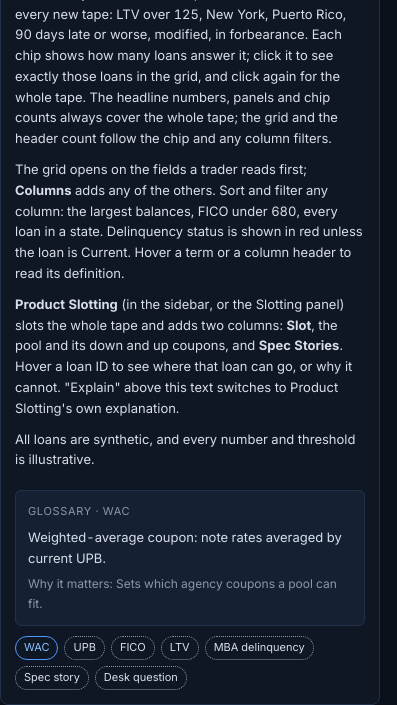
Scenario: ExplainPanel › shows the first glossary term and swaps it from a term chip
The width and height of the screenshot is (397, 705).
(page scrolled)
expect the text "Glossary · WAC" is shown: met, box [28,504,130,518]
What coordinates should you click on to do the following:
click the button "FICO"
I would click on:
 (133, 648)
Its box is [111,636,155,660].
(page scrolled)
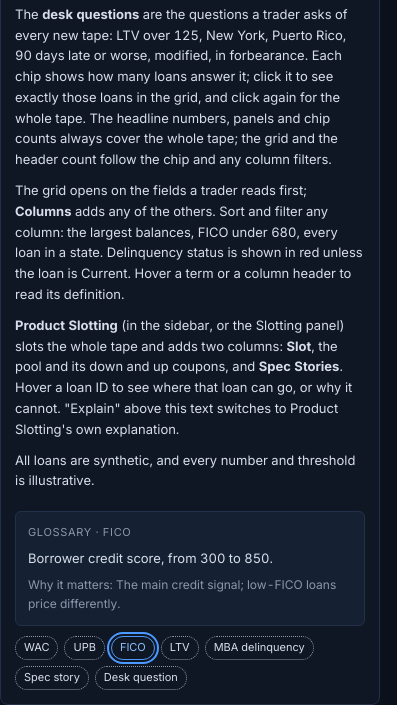
expect the text "Glossary · FICO" is shown: met, box [28,525,131,539]
expect the text "Borrower credit score, from 300 to 850." is shown: met, box [28,550,273,566]
